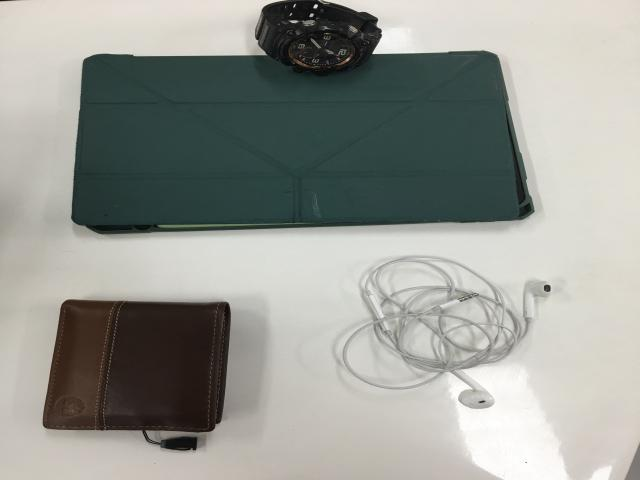Wallet: (41, 300, 231, 451)
Watch: (255, 0, 383, 76)
wire: (329, 256, 553, 411)
